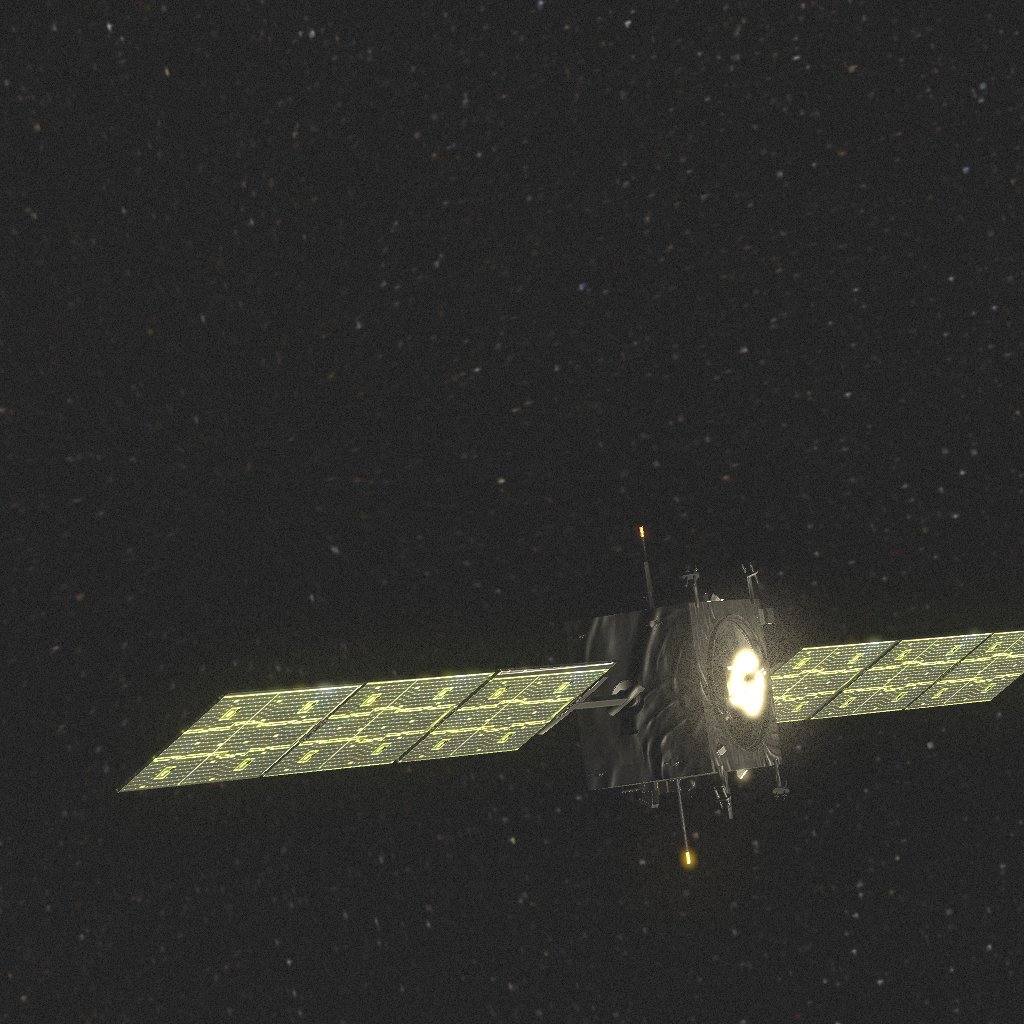smart_1: (116, 527, 1024, 864)
